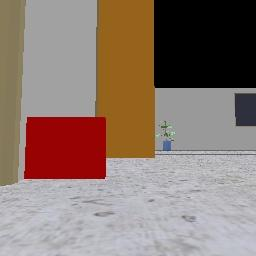planta: (156, 121, 175, 150)
rosu: (24, 117, 105, 178)
tonomat: (96, 0, 153, 157)
